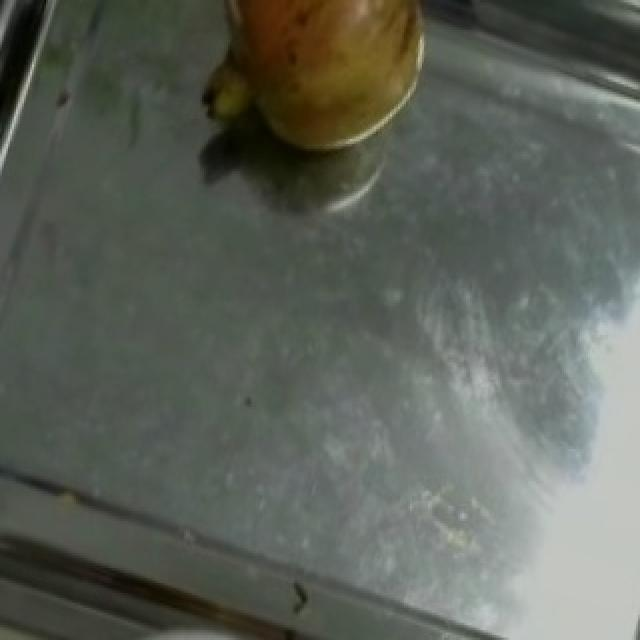fruit: (190, 0, 462, 181)
